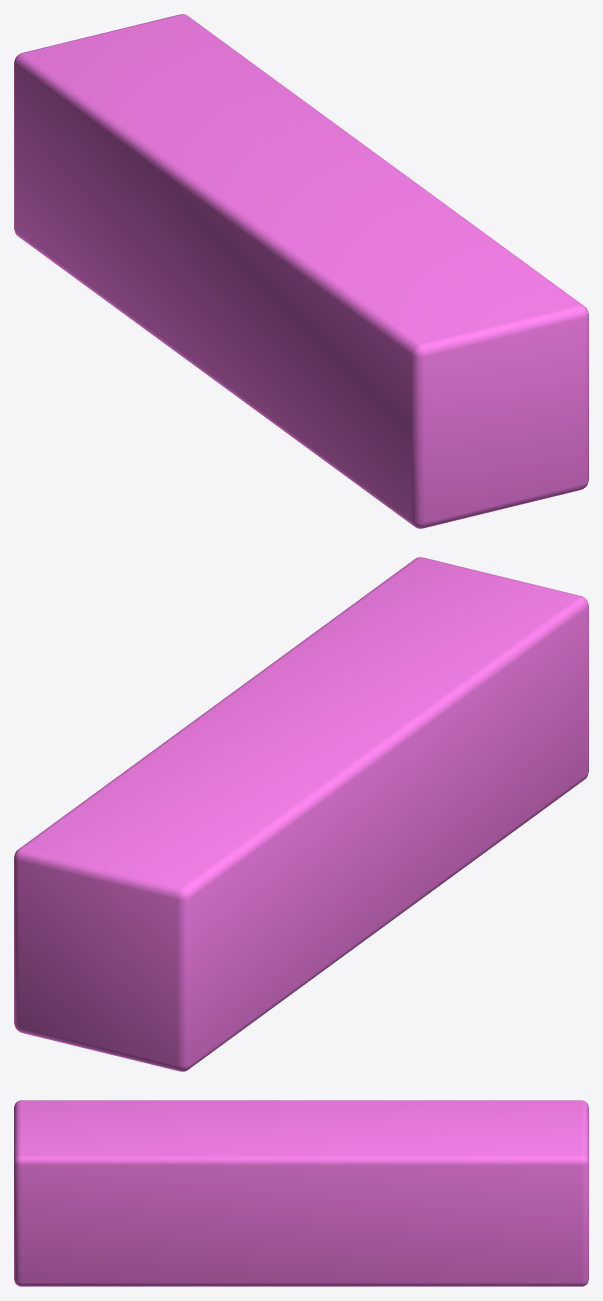
Rendered from Cuis_Pink.fbx.
3 renders of one model, top to bottom at view 1: azimuth 30°, elevation 25°; view 2: azimuth 150°, elevation 25°; view 3: azimuth 270°, elevation 25°, orthographic. The views are drawn at different scales.
Parts seen in each view (by area): view 1: Pink; view 2: Pink; view 3: Pink.
Boxes of the visible parts, bbox=[...] form: Pink: bbox=[14, 14, 588, 528]; Pink: bbox=[14, 557, 588, 1071]; Pink: bbox=[14, 1100, 588, 1286].
Bounding box in the file's own units: 1.35 × 5.38 × 1.35.
